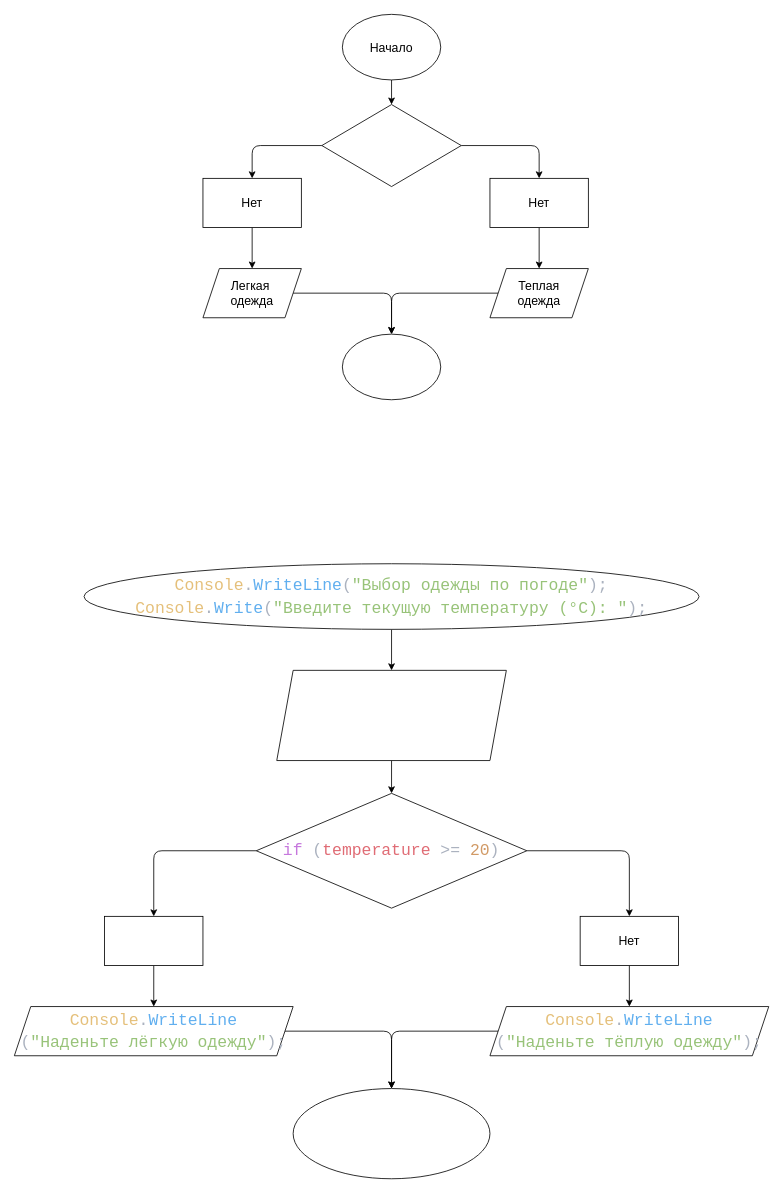
Image size: 783x1193. Some labels were removed from this diagram. The box of each missing label's shape, as (x1, y1, x2, y2) in pixels:
Console . WriteLine ( "Хорошего дня!" );: (292, 1088, 490, 1179)
int temperature = Convert . ToInt32 ( Console . ReadLine ());: (276, 670, 506, 761)
Да: (104, 916, 203, 966)
Конец: (342, 333, 441, 400)
Температура ≥ 20 ° С?: (321, 104, 461, 187)
